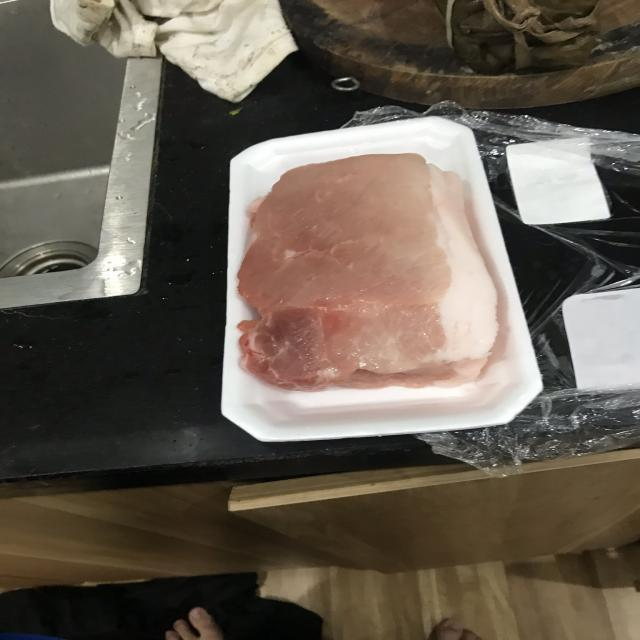chicken: (239, 151, 512, 389)
